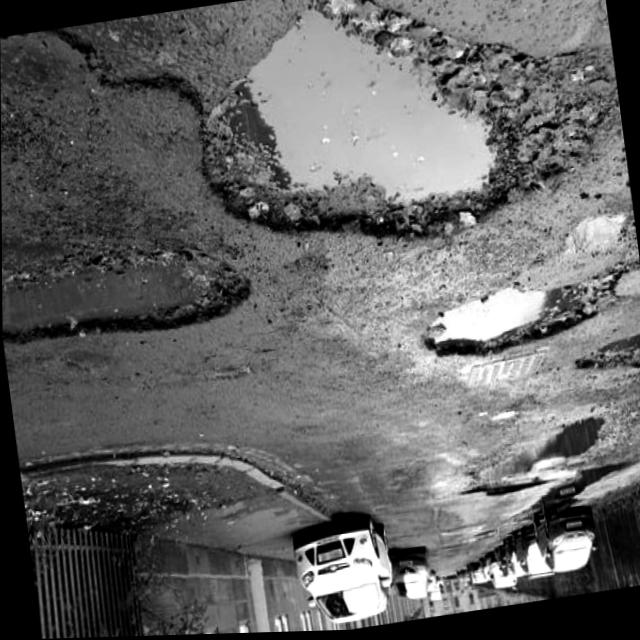pathole: (186, 0, 627, 294), (1, 220, 264, 382), (398, 251, 640, 381), (448, 393, 613, 522), (562, 335, 640, 387)
